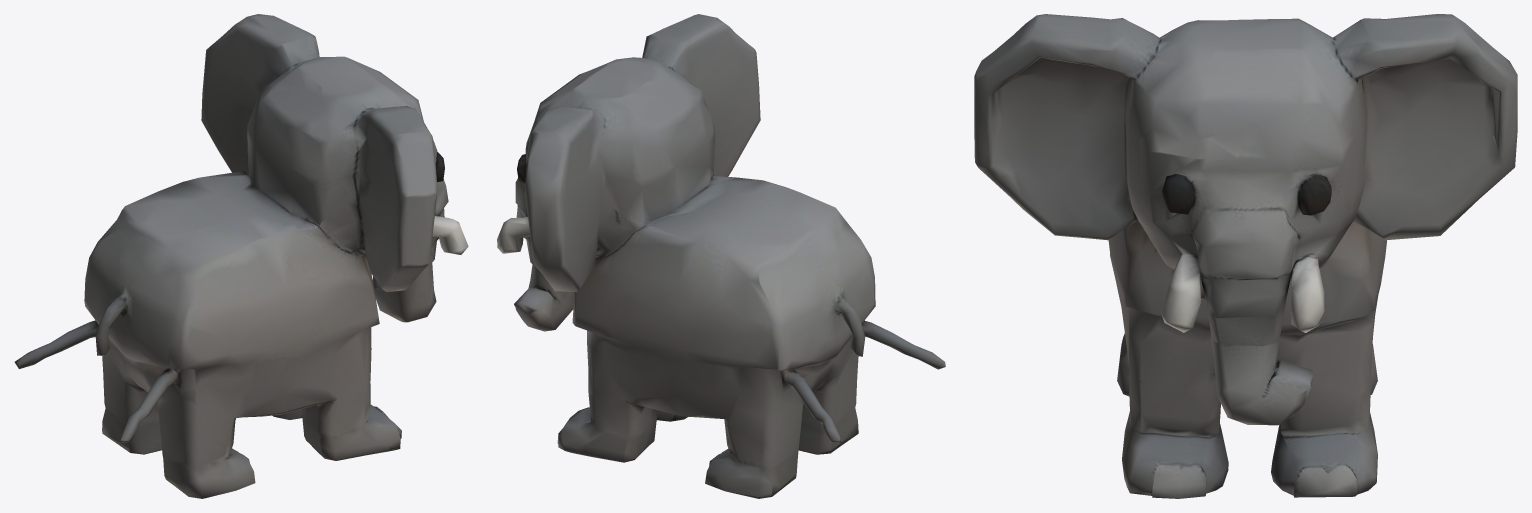
File: elephant.glb
3 renders of one model, left to right at view 1: azimuth 30°, elevation 25°; view 2: azimuth 150°, elevation 25°; view 3: azimuth 270°, elevation 25°, orthographic. The views are drawn at different scales.
Parts seen in each view (by area): view 1: tripo_node_f17a0c17-5e84-4b1c-a51e-8f1ad8328b09; view 2: tripo_node_f17a0c17-5e84-4b1c-a51e-8f1ad8328b09; view 3: tripo_node_f17a0c17-5e84-4b1c-a51e-8f1ad8328b09.
Boxes of the visible parts, x1,y1,x2,y2 form: tripo_node_f17a0c17-5e84-4b1c-a51e-8f1ad8328b09: [14, 14, 468, 498]; tripo_node_f17a0c17-5e84-4b1c-a51e-8f1ad8328b09: [497, 14, 945, 498]; tripo_node_f17a0c17-5e84-4b1c-a51e-8f1ad8328b09: [974, 14, 1517, 498].
Size of the model in its own units: 1 by 0.8901 by 0.9552.
1 material, 1 textured.
